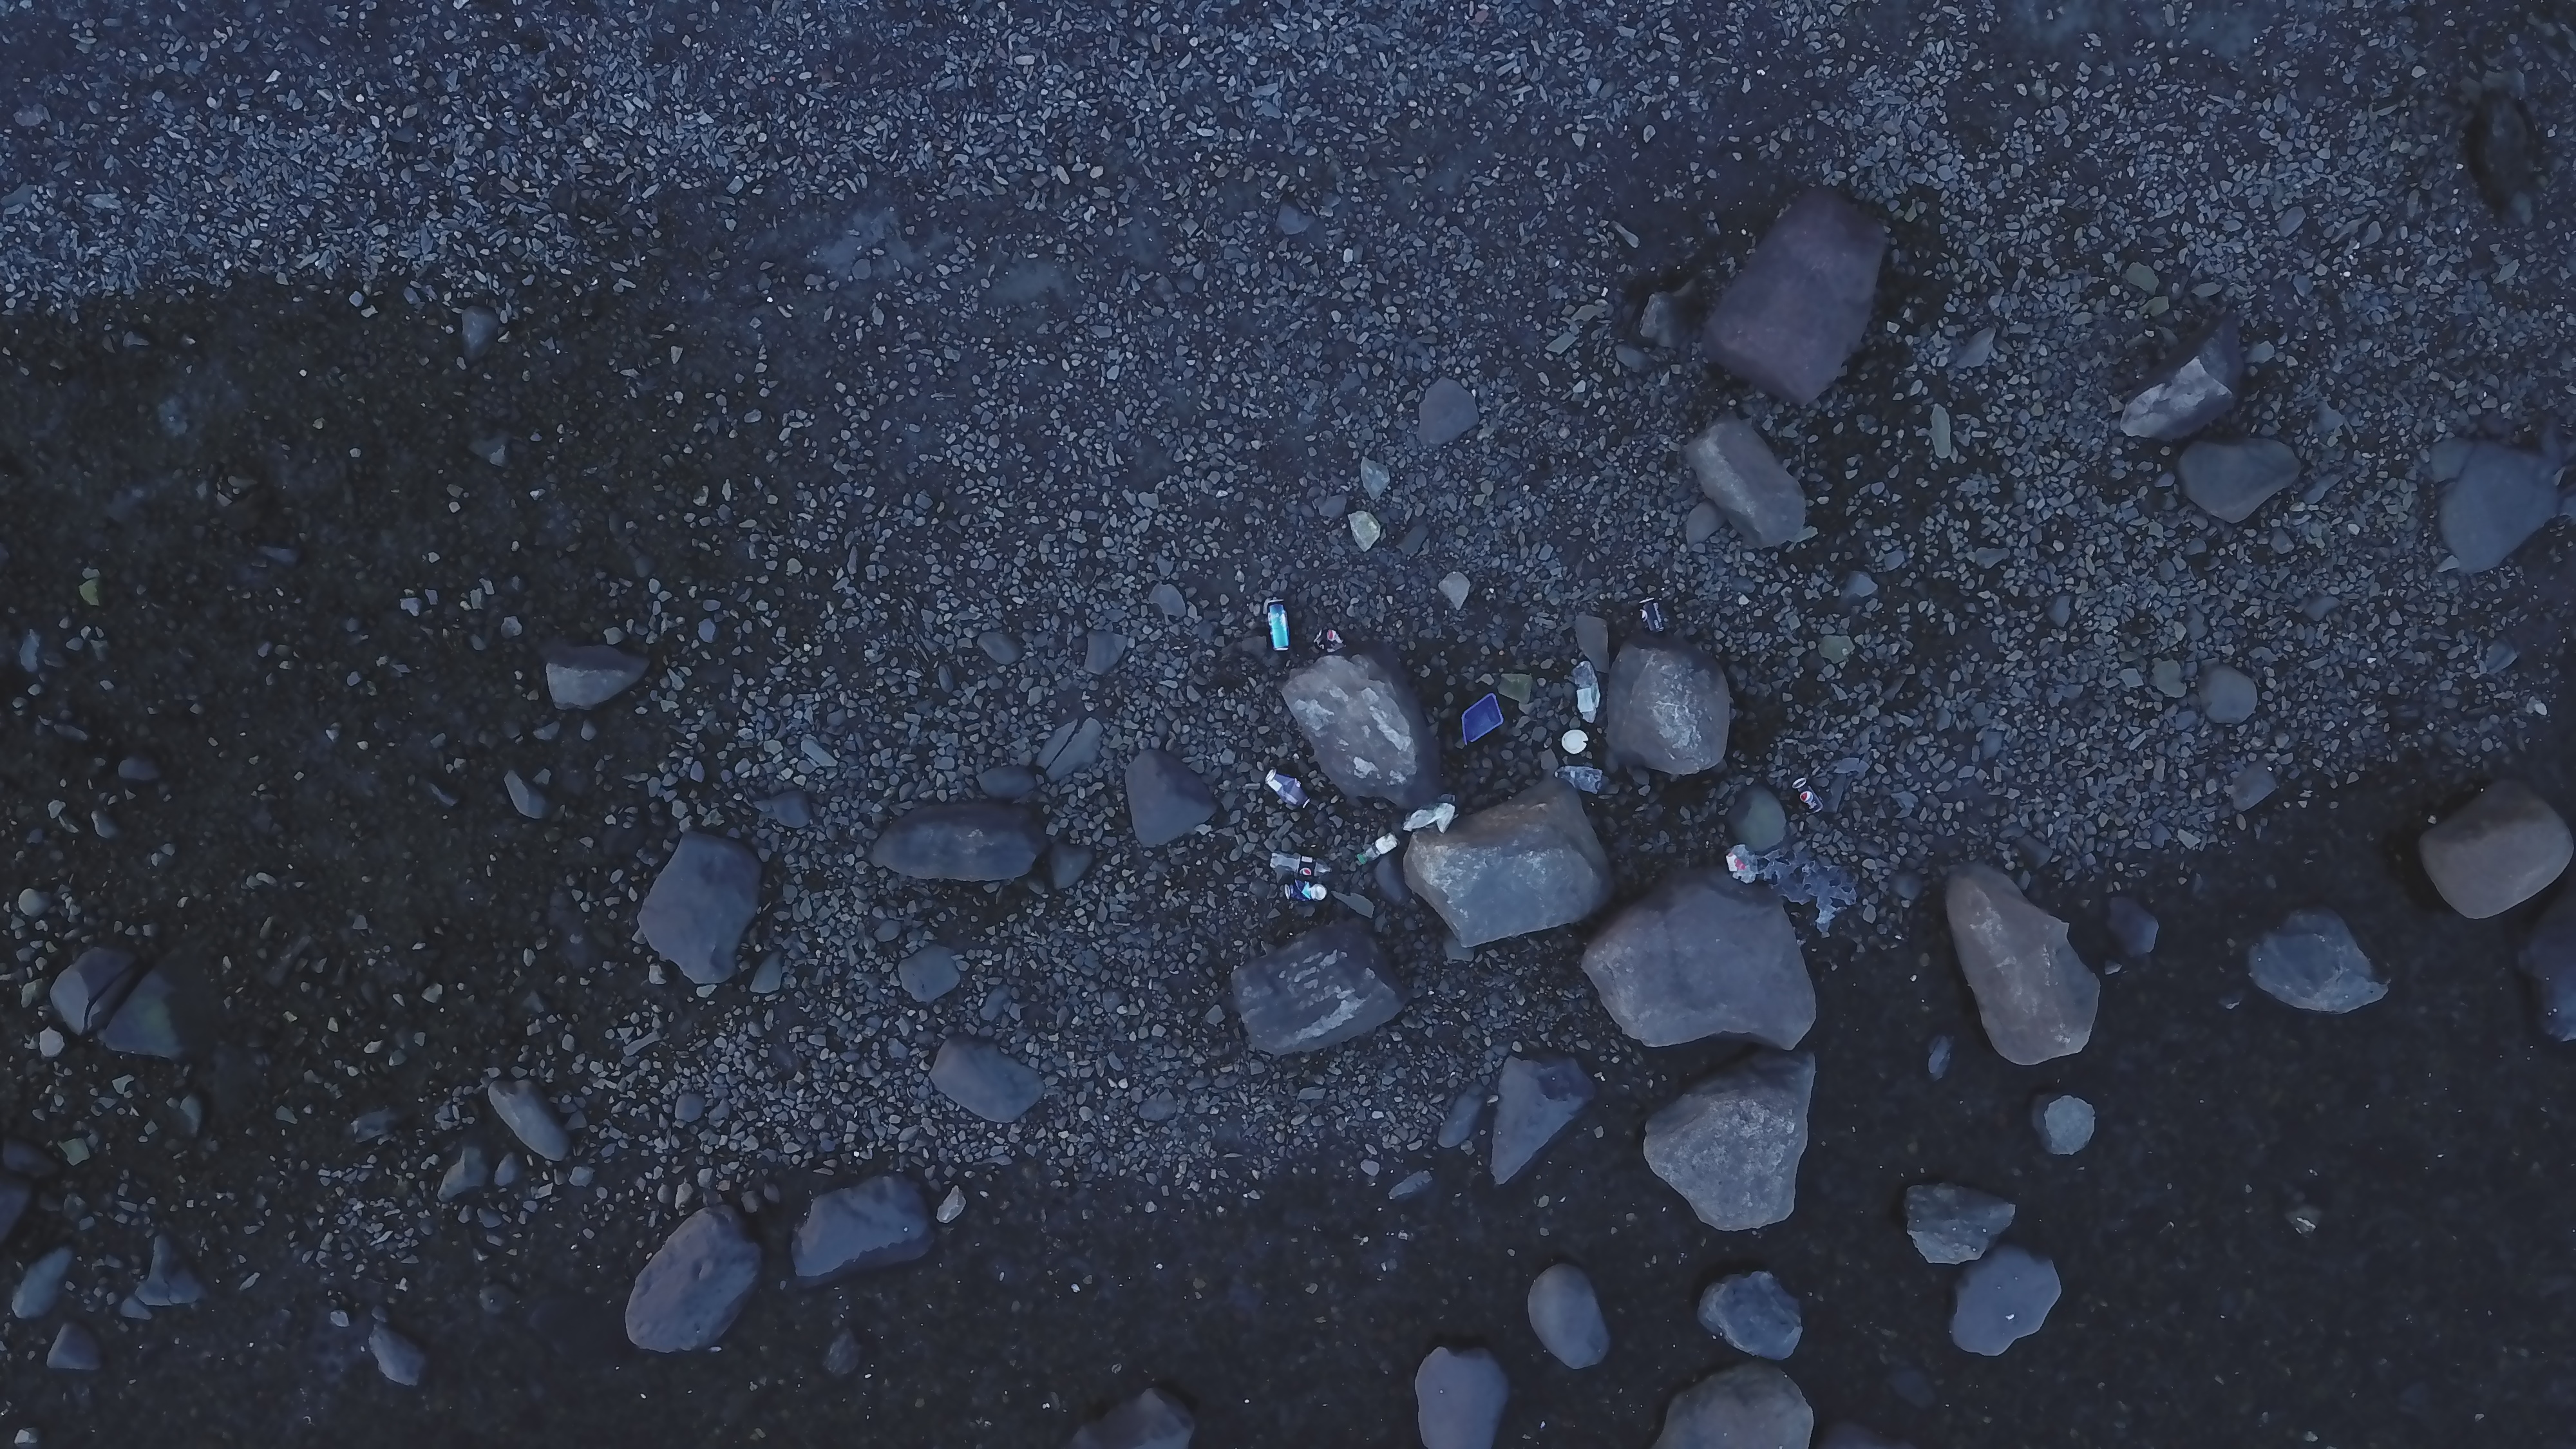Can: (732, 748, 780, 791), (1263, 770, 1313, 810), (1361, 603, 1408, 642), (1265, 600, 1292, 653), (1792, 777, 1824, 816), (1637, 598, 1667, 635), (1281, 881, 1330, 902), (1313, 628, 1352, 651)
Plastic: (1463, 692, 1504, 747), (1573, 660, 1605, 724), (1553, 764, 1606, 796), (1405, 801, 1449, 832), (1730, 708, 1773, 736), (1721, 846, 1755, 876), (1560, 729, 1591, 755)
PlasticBottle: (1113, 860, 1162, 906), (1270, 849, 1336, 876), (1668, 391, 1713, 425), (1957, 835, 2020, 858), (1357, 833, 1398, 865)
